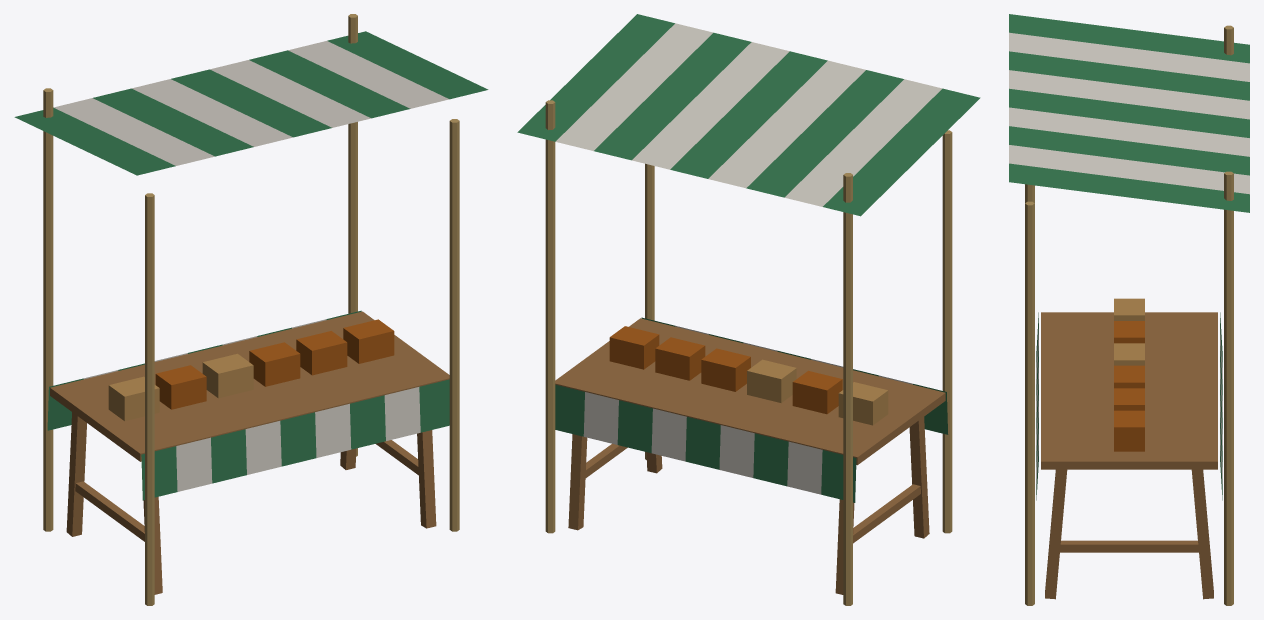
Rendered from sap_kho.glb.
3 renders of one model, left to right at view 1: azimuth 30°, elevation 25°; view 2: azimuth 150°, elevation 25°; view 3: azimuth 270°, elevation 25°, orthographic. The views are drawn at different scales.
Parts seen in each view (by area): view 1: sap_kho; view 2: sap_kho; view 3: sap_kho.
Part boxes in pixels (left/top/right/bottom): sap_kho: left=14, top=14, right=488, bottom=605; sap_kho: left=517, top=14, right=980, bottom=605; sap_kho: left=1009, top=14, right=1249, bottom=605.
Size of the model in its own units: 1.8 by 2.16 by 1.09.
